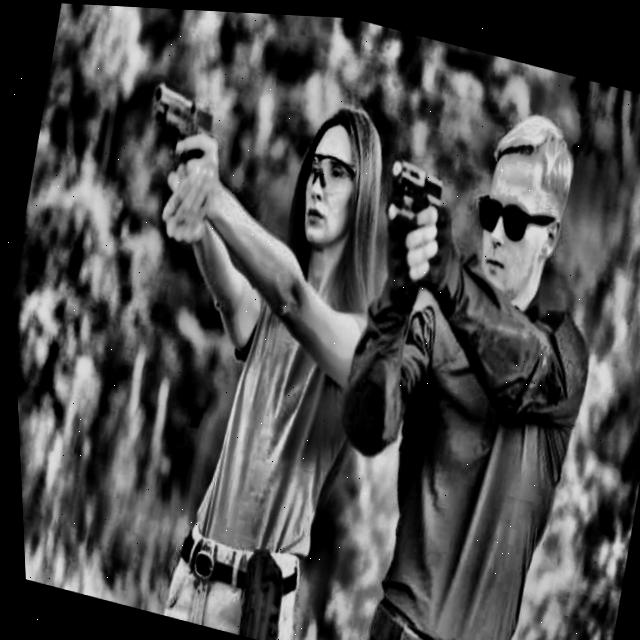pistol: (116, 72, 243, 222)
